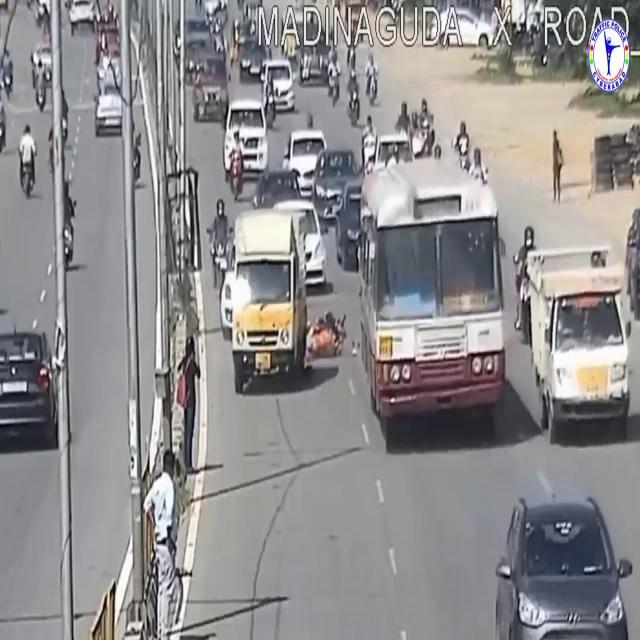accident: (226, 191, 351, 400)
non_accident: (173, 12, 324, 200), (64, 1, 124, 150)
